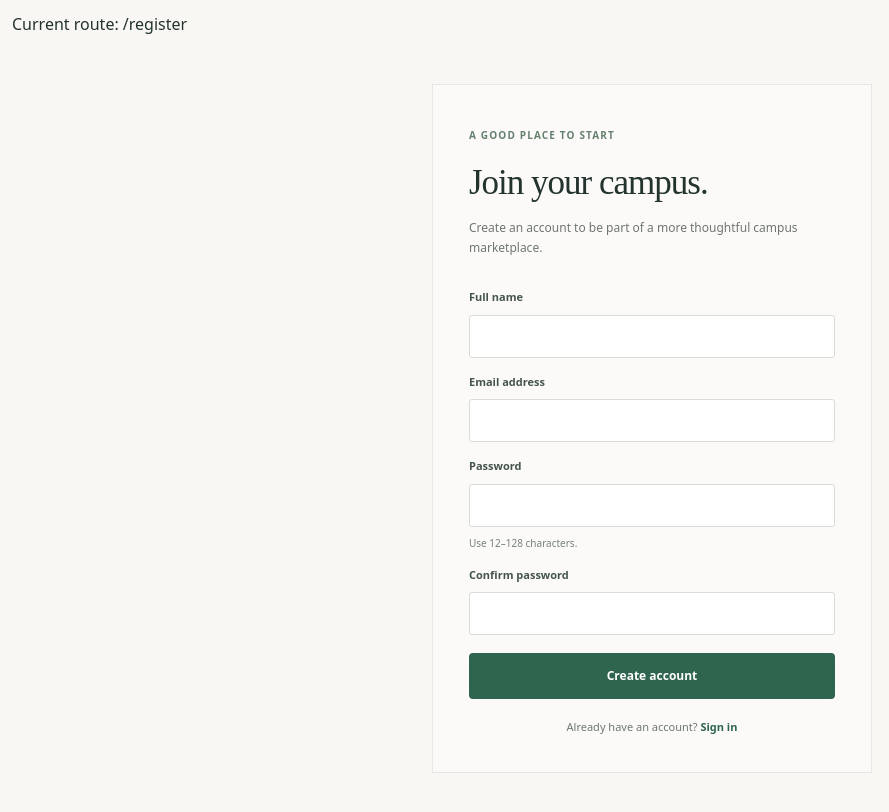
it: registration › shows a useful duplicate-email error
Type "Campus Student" into the field labelled "Full name". click: (652, 336)
box: 469,315 -> 835,358
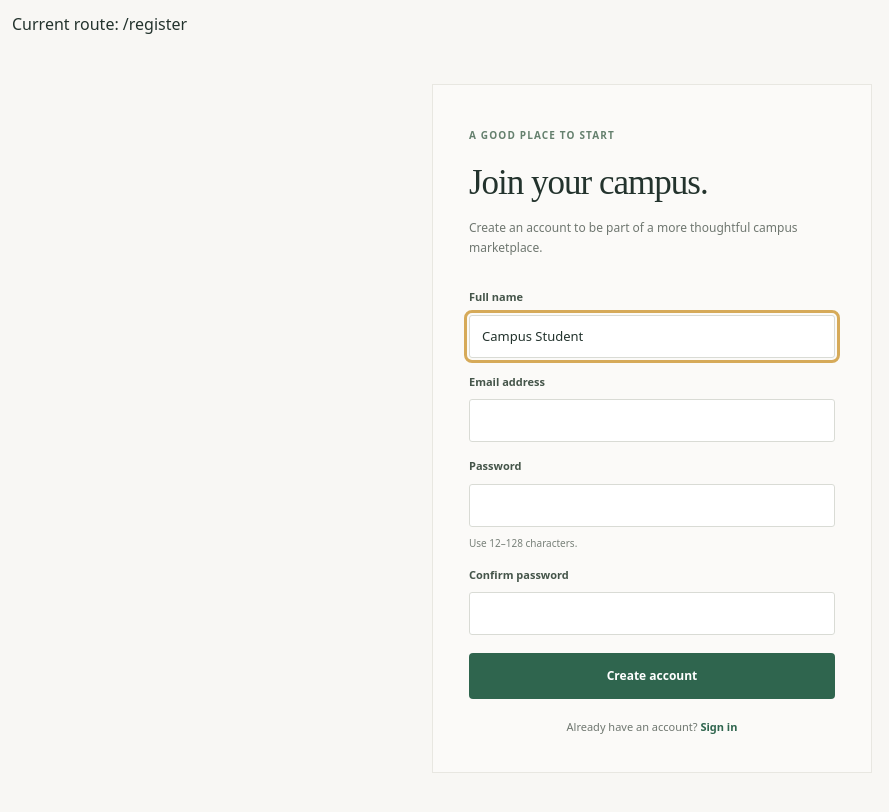
Type "student@example.edu" into the field labelled "Email address". click: (652, 421)
box: 469,399 -> 835,442
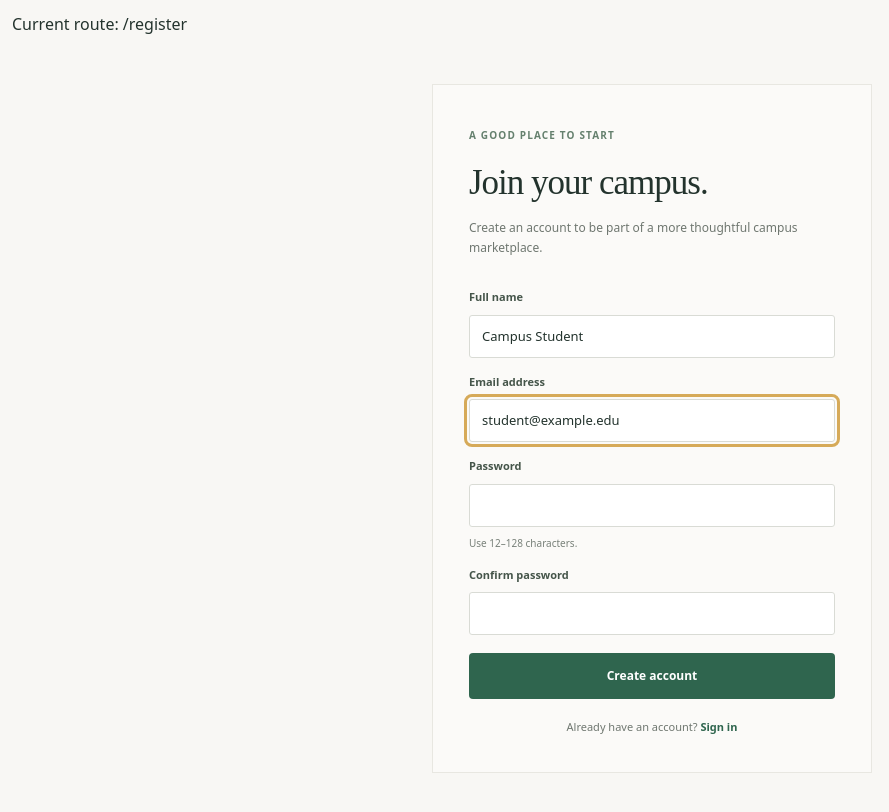
Type "secure-password-123" into the password field labelled "Password". click: (652, 505)
box: 469,484 -> 835,527
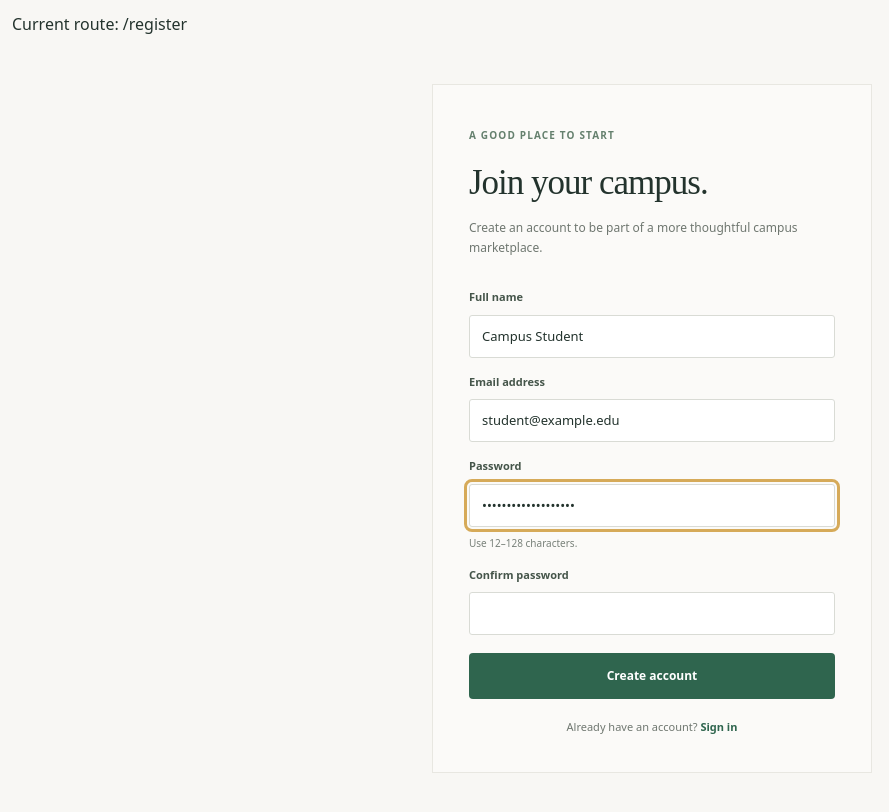
Type "secure-password-123" into the password field labelled "Confirm password". click: (652, 614)
box: 469,592 -> 835,635
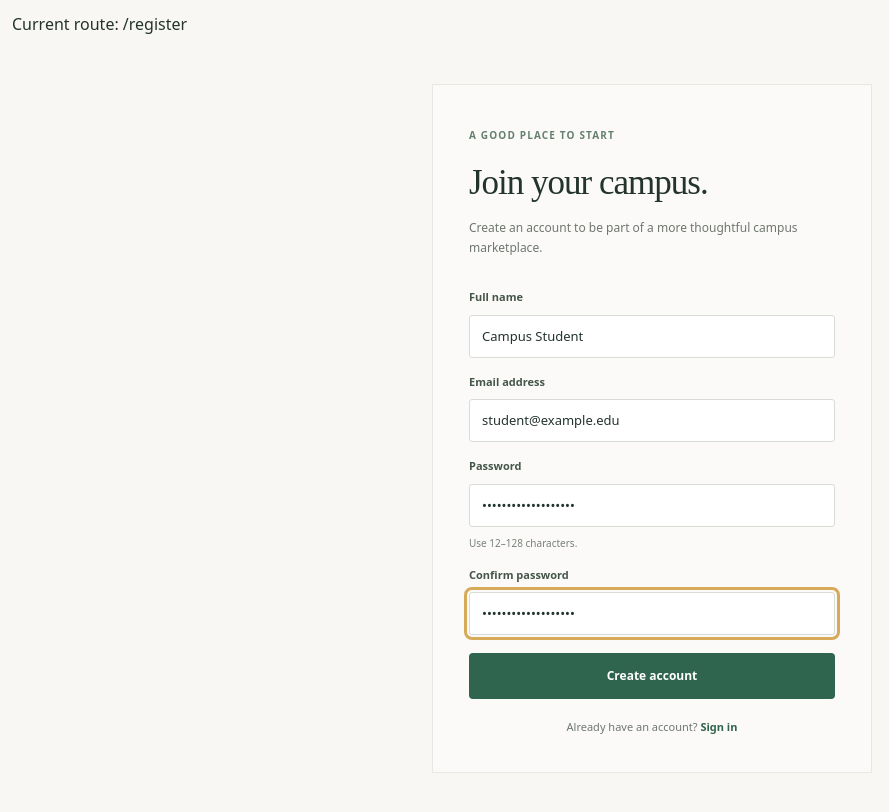
Click the button "Create account". click: (652, 676)
box: 469,653 -> 835,699
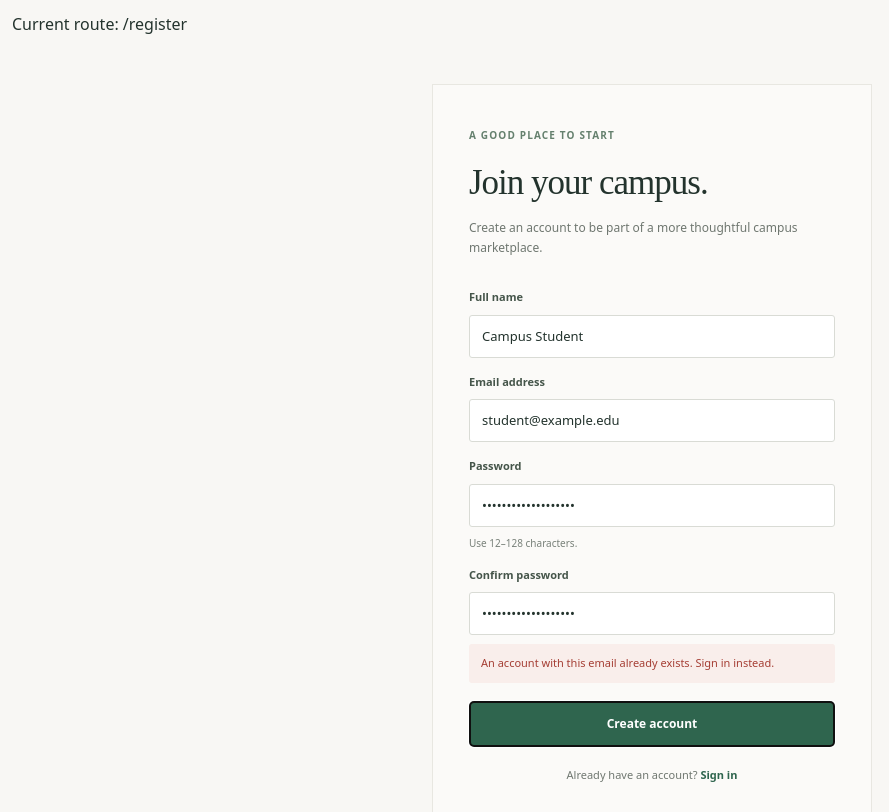
expect the text "An account with this email already exists. Sign in instead." is shown: met, box 469,644 -> 835,683
